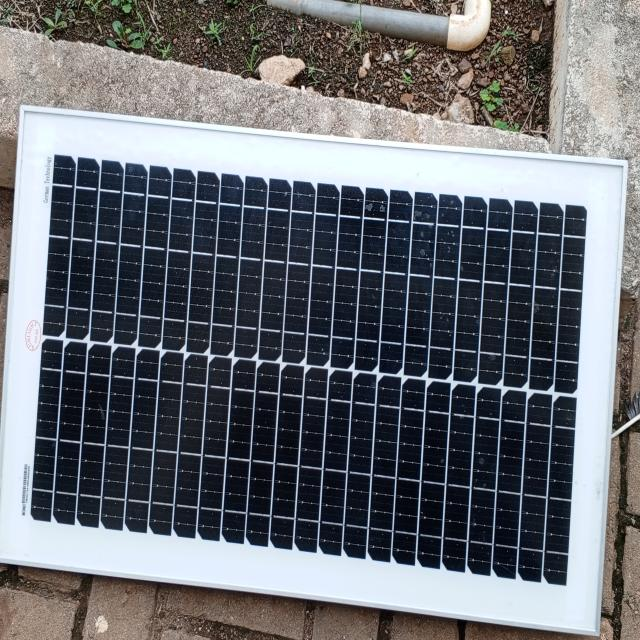Clean: (32, 173, 586, 560)
